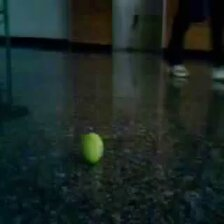tennis: (82, 132, 104, 165)
